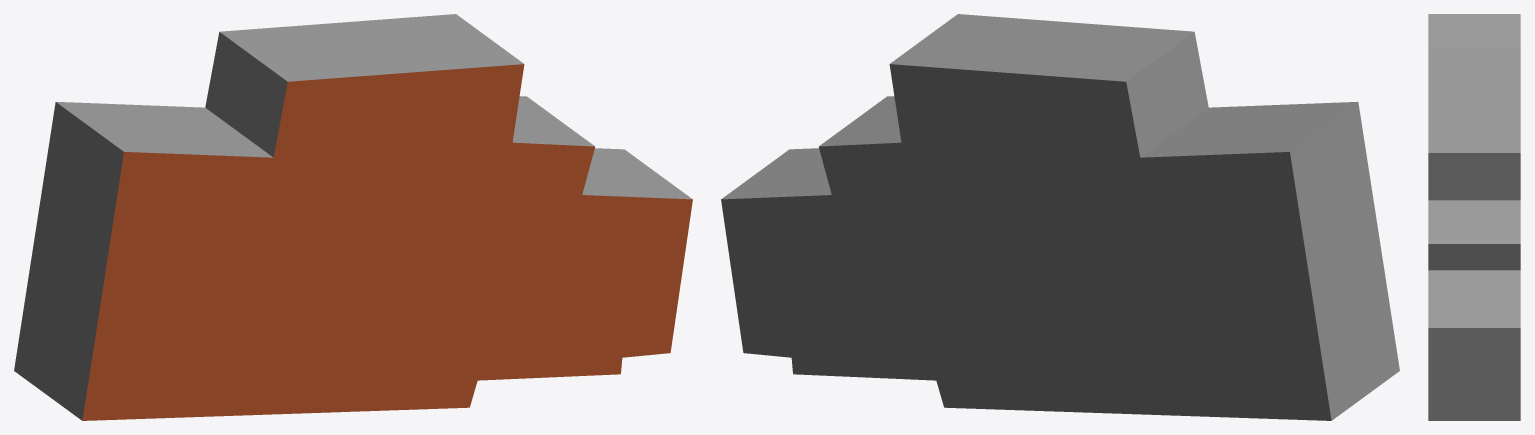
File: construction_4674_assumed_A_Igreja_matriz_h6m.obj
3 renders of one model, left to right at view 1: azimuth 30°, elevation 25°; view 2: azimuth 150°, elevation 25°; view 3: azimuth 270°, elevation 25°, orthographic. The views are drawn at different scales.
Parts seen in each view (by area): view 1: construction_4674_assumed_A_Igreja_matriz; view 2: construction_4674_assumed_A_Igreja_matriz; view 3: construction_4674_assumed_A_Igreja_matriz.
Boxes of the visible parts, <box> form: construction_4674_assumed_A_Igreja_matriz: <box>14,14,692,420</box>; construction_4674_assumed_A_Igreja_matriz: <box>721,14,1399,420</box>; construction_4674_assumed_A_Igreja_matriz: <box>1428,14,1520,420</box>.
Bounding box in the file's own units: 30.91 × 18.09 × 6.
